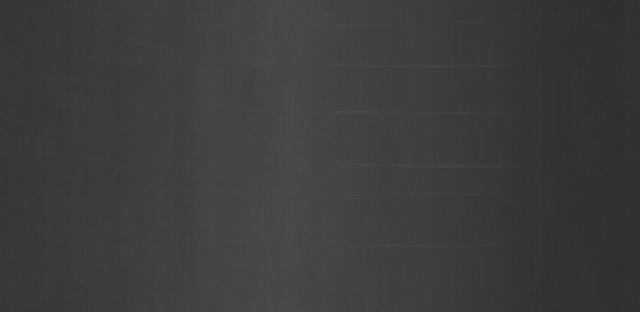waist_folding: (346, 35, 541, 260)
